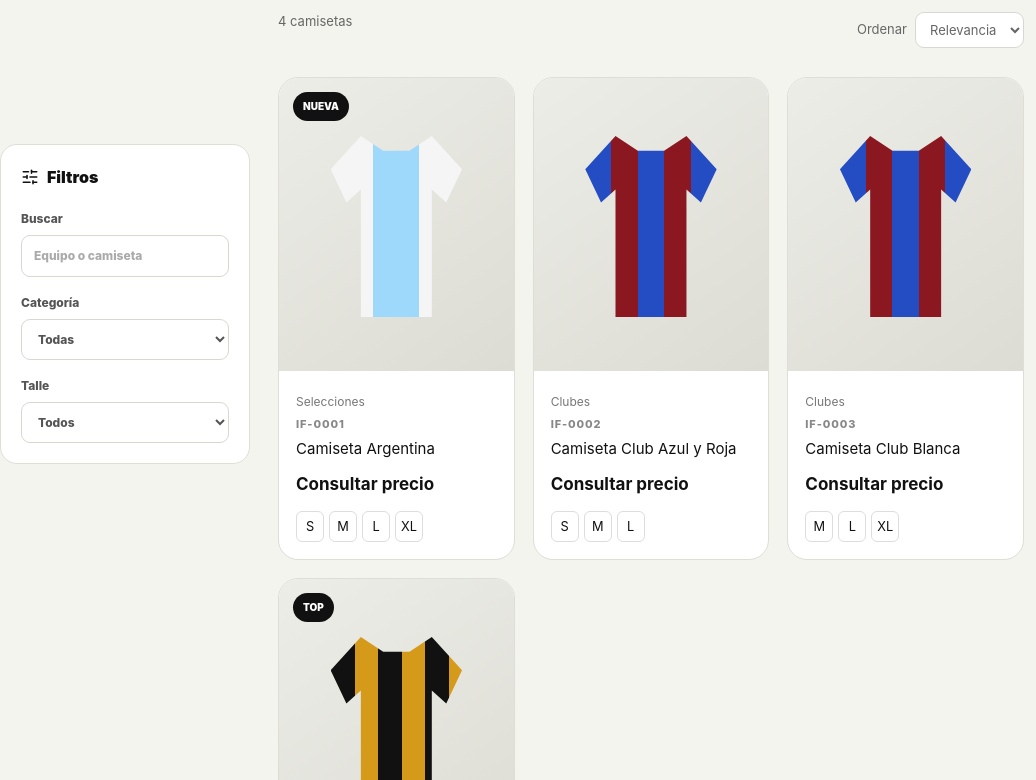
Catalog › shows an empty state when there are no matches
Type "Inter Miami" into the field named "Buscar camisetas".
click(125, 256); type("Inter Miami")  # box [21,235,229,277]
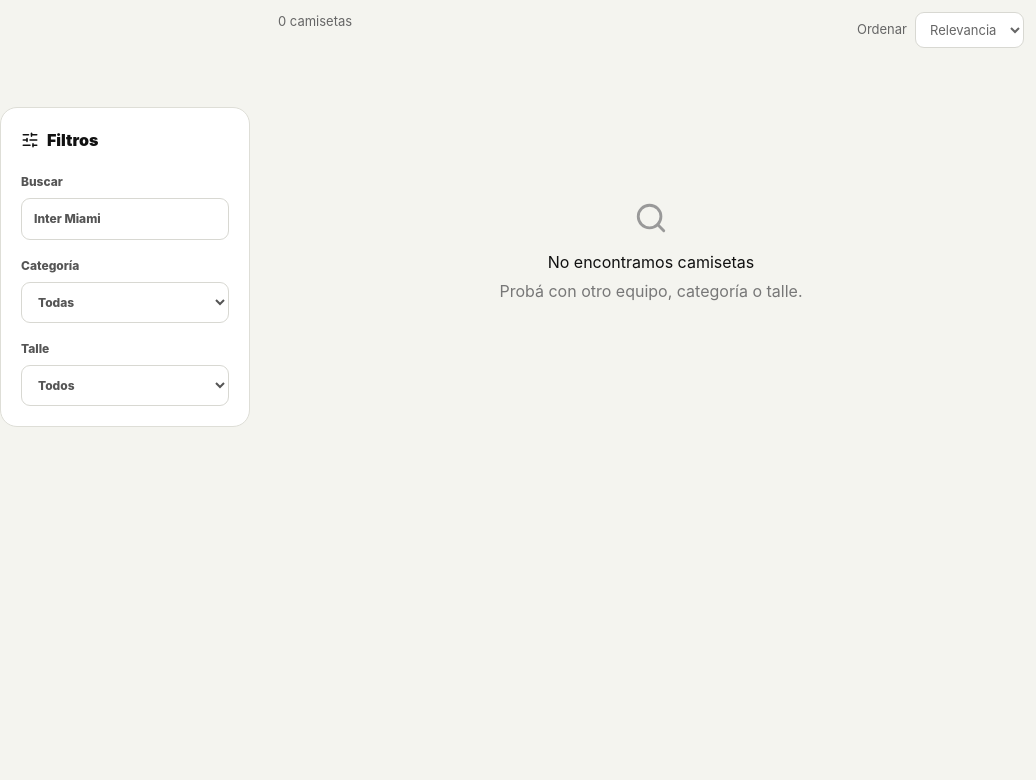
Expected: the heading "No encontramos camisetas" is shown, [548,250,754,274]
